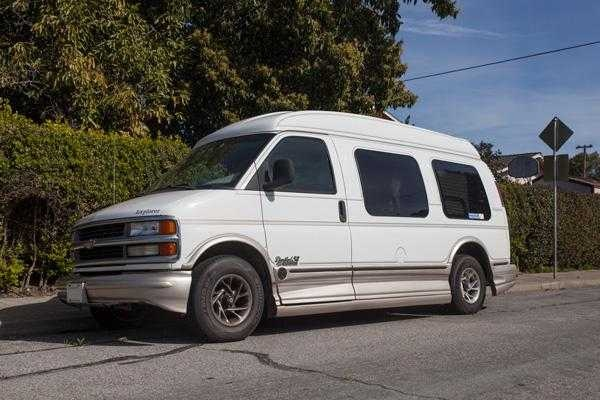van: (58, 110, 515, 343)
